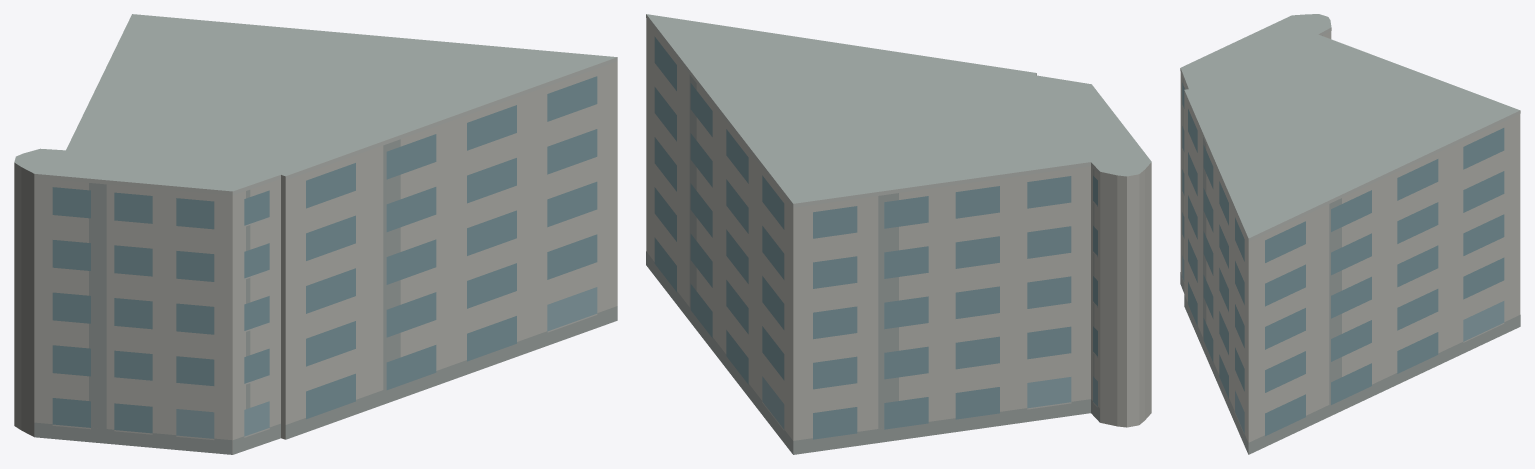
File: survey-upis-32631087.glb
3 renders of one model, left to right at view 1: azimuth 30°, elevation 25°; view 2: azimuth 150°, elevation 25°; view 3: azimuth 270°, elevation 25°, orthographic. The views are drawn at different scales.
Parts seen in each view (by area): view 1: survey-upis-32631087.tmp; view 2: survey-upis-32631087.tmp; view 3: survey-upis-32631087.tmp.
Boxes of the visible parts, <box> form: survey-upis-32631087.tmp: <box>14,14,617,454</box>; survey-upis-32631087.tmp: <box>646,14,1151,454</box>; survey-upis-32631087.tmp: <box>1180,14,1520,454</box>.
Bounding box in the file's own units: 33.95 × 15.25 × 21.72.
